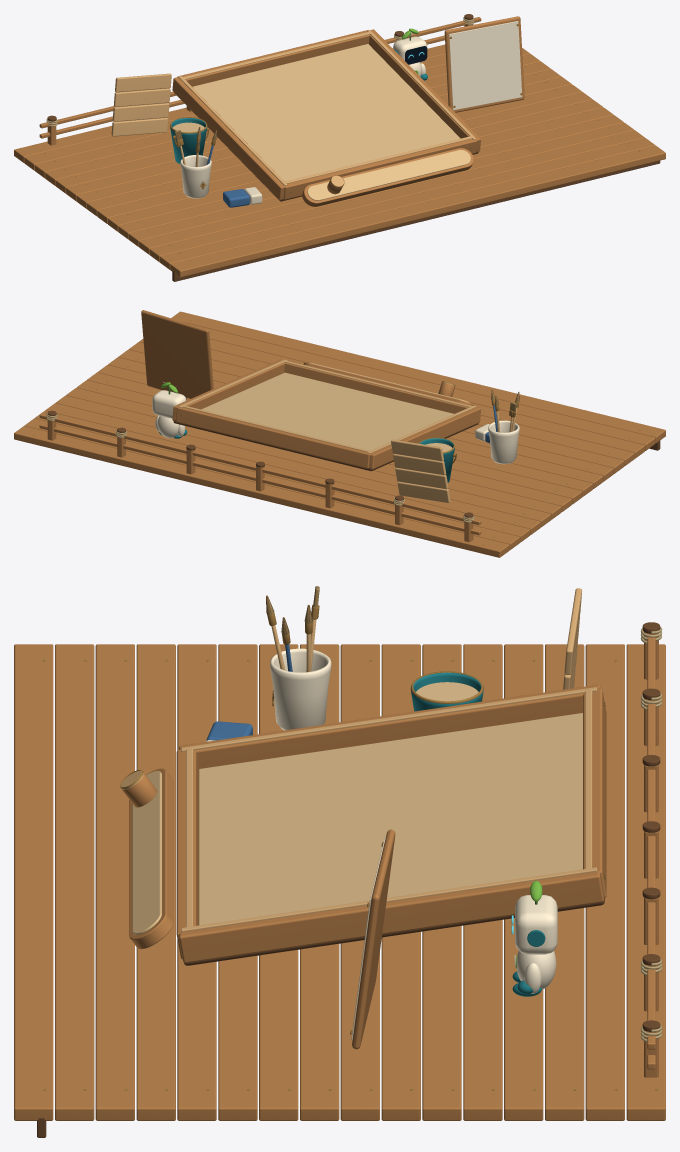
The model's file is coastal-workbench-Dr6oHNY7.glb.
3 views of the same model, one above another, from view 1: azimuth 30°, elevation 25°; view 2: azimuth 150°, elevation 25°; view 3: azimuth 270°, elevation 25° (orthographic). The views are drawn at different scales.
Visible parts, largest first — view 1: table, sand_bed, board_paper, ruler_inlay, tray_cross_rail, tray_side, table_front, tray_side.001, tray_cross_rail.001, ruler_base, board_back, shell_cup (+13 smaller); view 2: table, sand_bed, board_back, tray_cross_rail, rail_crossbar, rail_crossbar.001, tray_cross_rail.001, tray_side, tray_side.001, shell_cup, sign_slat.003, sign_slat (+8 smaller); view 3: table, sand_bed, tray_side.001, tray_side, ruler_inlay, shell_cup, tray_cross_rail, board_back, ruler_base, rail_crossbar.001, tray_cross_rail.001, robot_head_shell (+8 smaller).
Boxes of the visible parts, x1,y1,x2,y2 form: table: (14,44,665,277); sand_bed: (192,44,460,181); board_paper: (449,21,522,110); ruler_inlay: (307,150,470,200); tray_cross_rail: (177,30,369,86); tray_side: (172,77,284,199); table_front: (172,160,660,281); tray_side.001: (369,29,480,151); tray_cross_rail.001: (283,139,477,199); ruler_base: (302,148,473,206); board_back: (444,16,524,112); shell_cup: (180,155,211,198); table: (14,311,665,557); sand_bed: (201,372,453,450); board_back: (141,310,213,398); tray_cross_rail: (176,407,369,468); rail_crossbar: (39,424,481,535); rail_crossbar.001: (39,413,481,524); tray_cross_rail.001: (284,360,476,413); tray_side: (369,407,480,469); tray_side.001: (172,359,284,420); shell_cup: (488,420,519,464); sign_slat.003: (391,439,443,461); sign_slat: (397,481,450,503); table: (14,644,665,1120); sand_bed: (199,713,582,925); tray_side.001: (179,869,604,963); tray_side: (179,684,600,768); ruler_inlay: (132,771,161,934); shell_cup: (270,648,331,730); tray_cross_rail: (583,688,606,897); board_back: (352,829,395,1049); ruler_base: (129,768,173,949); rail_crossbar.001: (647,637,655,1049); tray_cross_rail.001: (176,749,198,959); robot_head_shell: (515,895,557,954).
Size of the model in its own units: 21 by 4.02 by 12.45.
